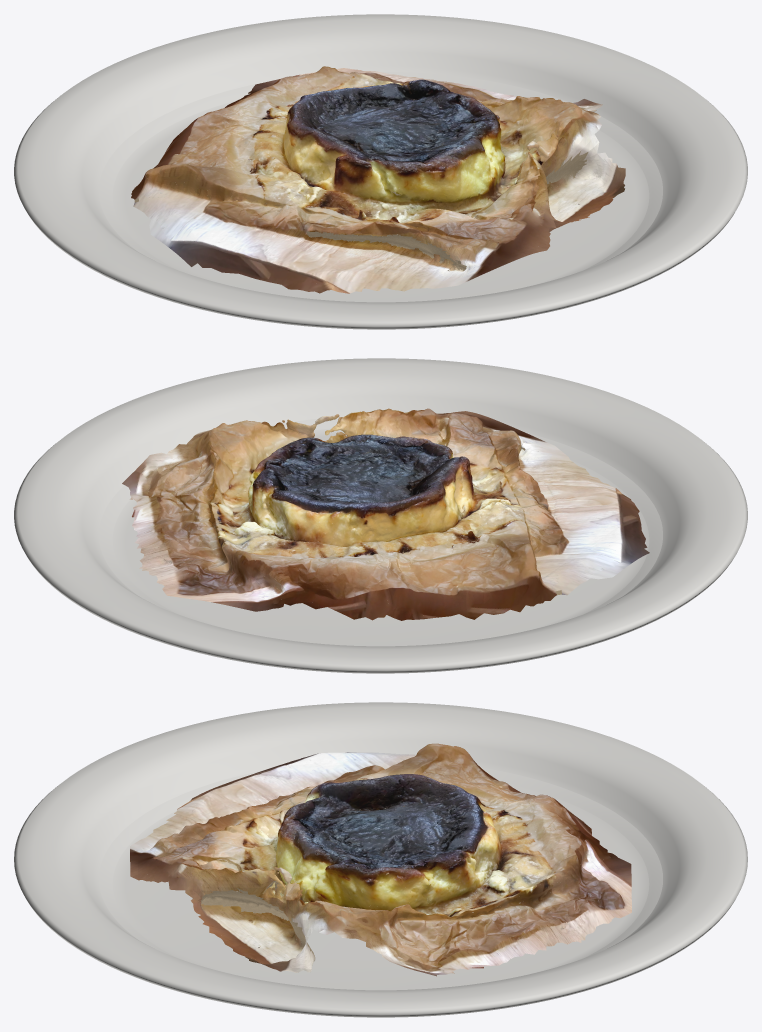
Rendered from tarta-queso.glb.
The picture shows the model from 3 angles, top to bottom: view 1: azimuth 30°, elevation 25°; view 2: azimuth 150°, elevation 25°; view 3: azimuth 270°, elevation 25°; orthographic projection.
Visible parts, largest first — view 1: Plato, Object_2, Object_3, Object_4; view 2: Plato, Object_2, Object_3, Object_4; view 3: Plato, Object_2, Object_3, Object_4.
Part boxes in pixels (box(x1,y1,x2,y2)): Plato: box(14, 14, 747, 329); Object_2: box(134, 66, 613, 284); Object_3: box(131, 68, 625, 293); Object_4: box(133, 73, 601, 293); Plato: box(14, 358, 747, 673); Object_2: box(130, 408, 649, 620); Object_3: box(122, 410, 639, 619); Object_4: box(132, 410, 621, 609); Plato: box(14, 702, 747, 1017); Object_2: box(130, 748, 603, 974); Object_3: box(130, 743, 631, 976); Object_4: box(156, 768, 603, 968).
Size of the model in its own units: 0.33 by 0.0506 by 0.33.
Materials: 4 (3 with a texture image).
